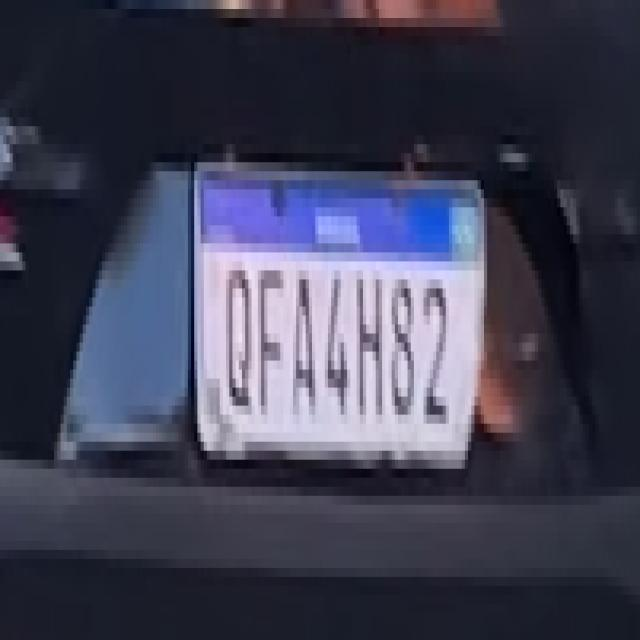Placa_mercosul_carro: (192, 168, 486, 471)
